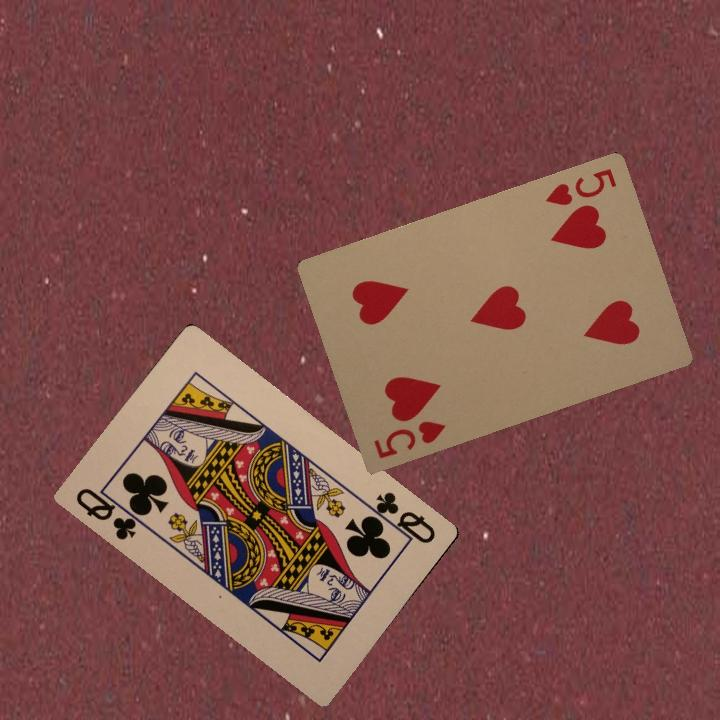5h: (370, 416, 449, 461), (541, 164, 619, 208)
Qc: (71, 483, 148, 543), (363, 487, 438, 547)
